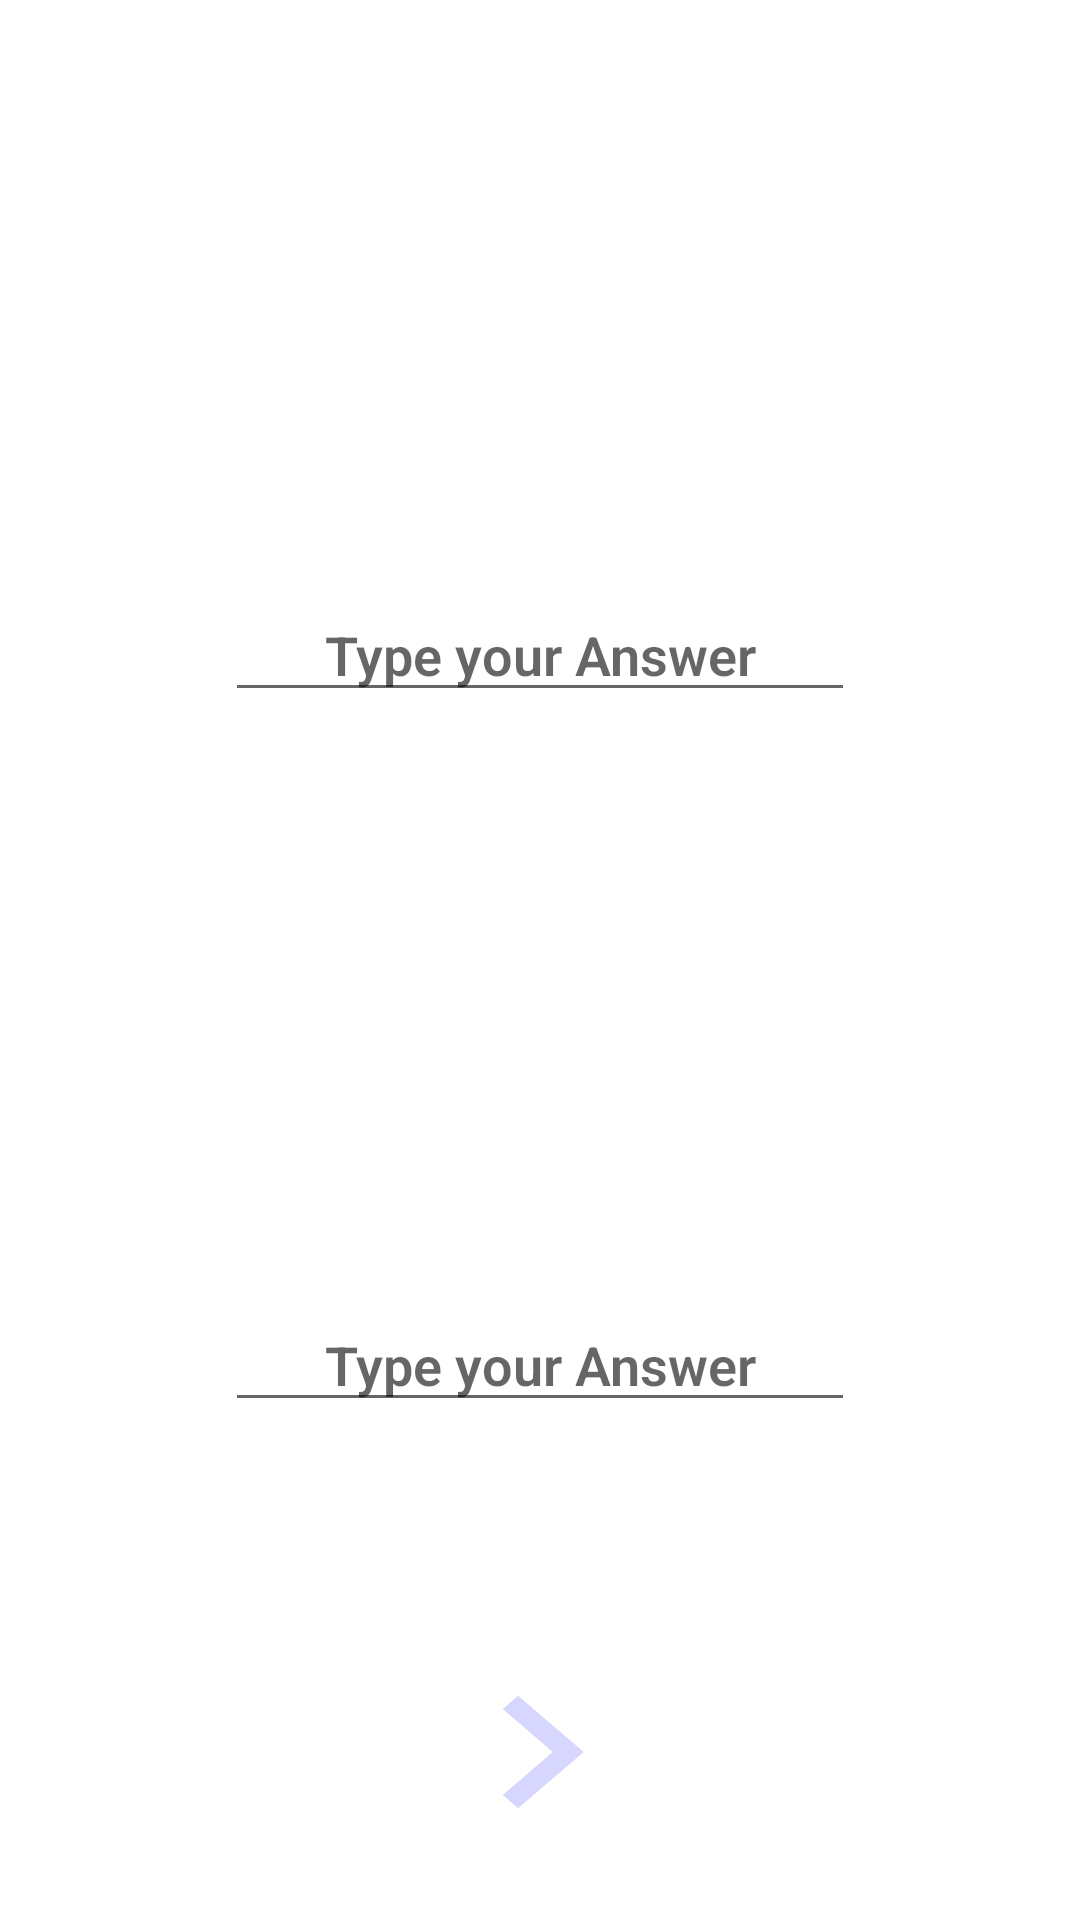

Icons on this 1080×1920 Android screen, each with its box as (x1, y1, x2, y2):
nextppart: (503, 1696, 583, 1808)
